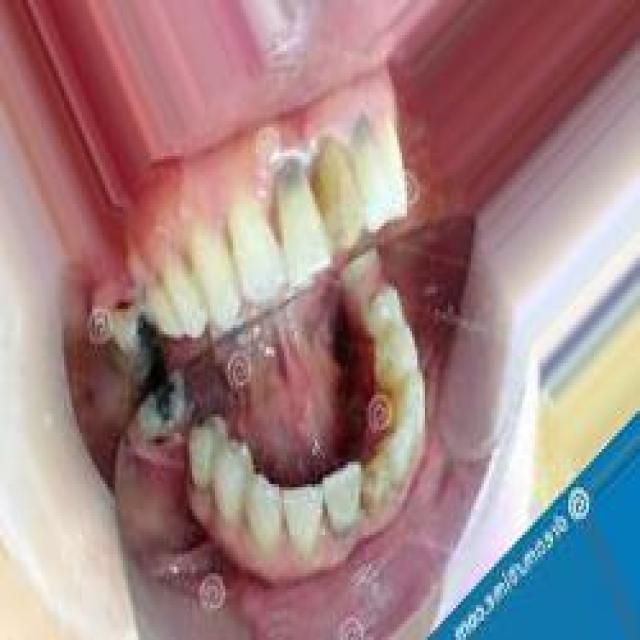caries: (143, 372, 186, 432), (121, 306, 163, 360), (360, 450, 395, 513)
